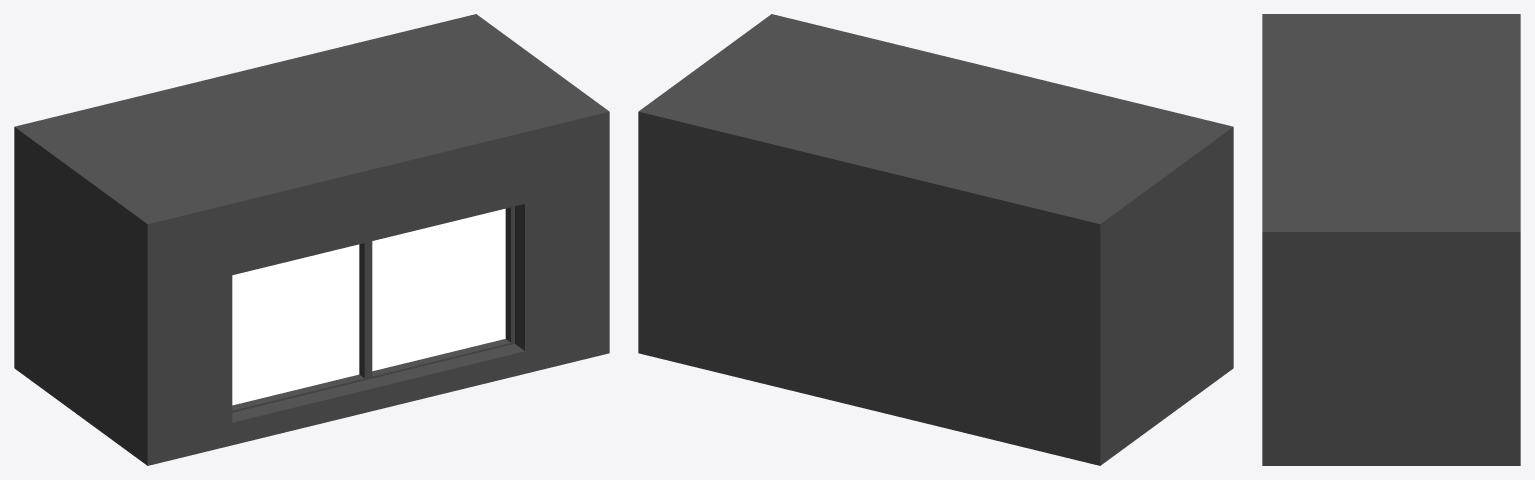
Rendered from GrandMilieu2.fbx.
3 renders of one model, left to right at view 1: azimuth 30°, elevation 25°; view 2: azimuth 150°, elevation 25°; view 3: azimuth 270°, elevation 25°, orthographic. The views are drawn at different scales.
Visible parts, largest first — view 1: Cube.039; view 2: Cube.039; view 3: Cube.039.
Part boxes in pixels (left/top/right/bottom): Cube.039: left=14, top=14, right=609, bottom=465; Cube.039: left=638, top=14, right=1233, bottom=465; Cube.039: left=1262, top=14, right=1520, bottom=465.
Bounding box in the file's own units: 4000 × 2000 × 2000.
